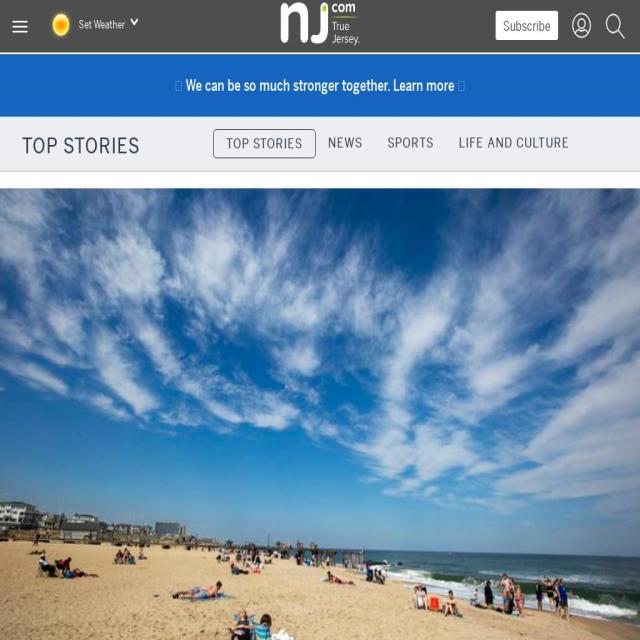button: (6, 63, 634, 109), (280, 2, 360, 50), (41, 8, 138, 42), (496, 11, 558, 40), (564, 0, 598, 52), (598, 0, 632, 52), (0, 9, 41, 43)
image: (0, 188, 640, 640), (280, 3, 360, 45), (571, 12, 591, 38), (605, 13, 625, 39), (12, 20, 28, 32)
link: (459, 130, 569, 152), (226, 132, 302, 152), (388, 130, 433, 152), (328, 130, 363, 152)
text: (22, 121, 152, 167), (74, 8, 125, 39)
